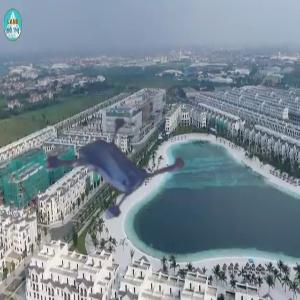drone: (19, 98, 172, 251)
